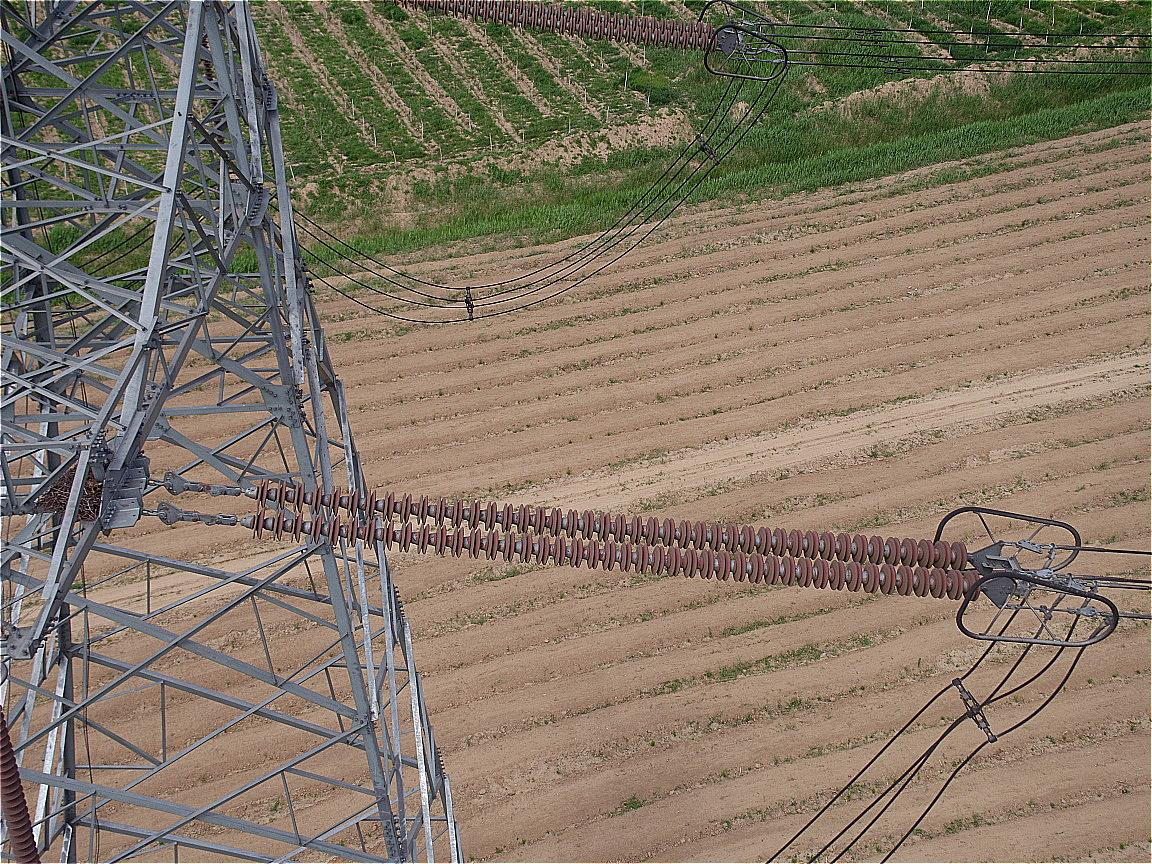insultor2: (222, 455, 989, 614)
